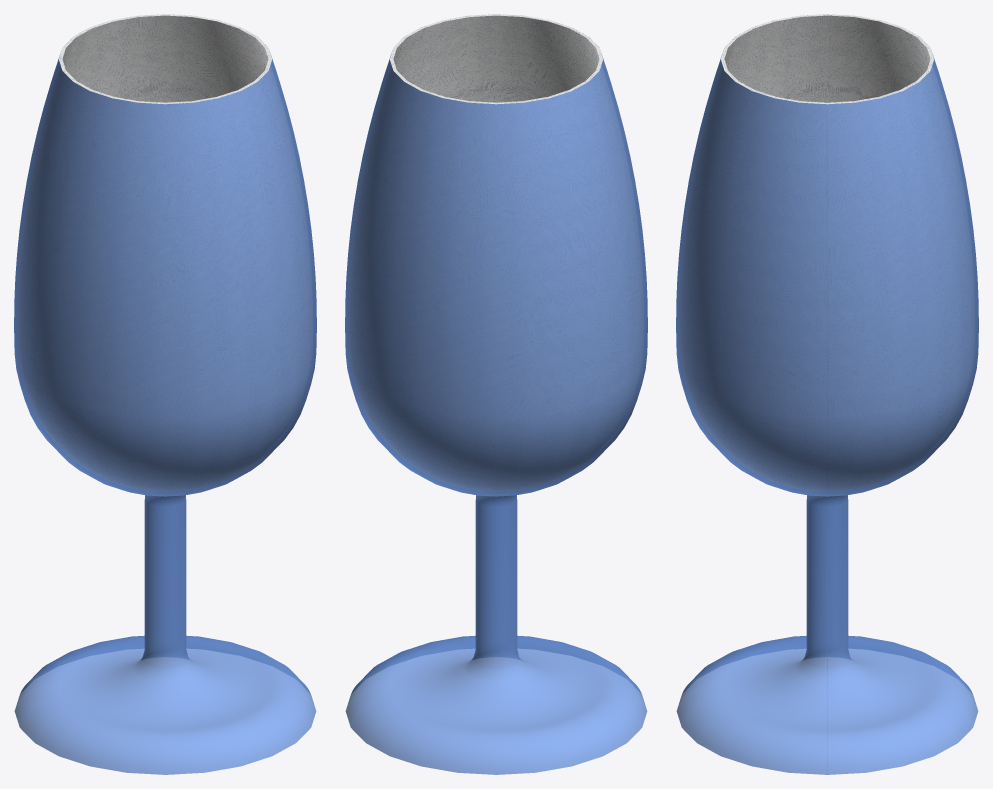
3 views of the same model, side by side, from view 1: azimuth 30°, elevation 25°; view 2: azimuth 150°, elevation 25°; view 3: azimuth 270°, elevation 25° (orthographic).
Parts seen in each view (by area): view 1: SketchUp (×3); view 2: SketchUp (×3); view 3: SketchUp (×3).
Part boxes in pixels (x1=…): SketchUp (×3): x1=14, y1=14, x2=316, y2=774; SketchUp (×3): x1=345, y1=14, x2=647, y2=774; SketchUp (×3): x1=676, y1=14, x2=978, y2=774.
Size of the model in its own units: 2.57 by 2.57 by 6.1.
